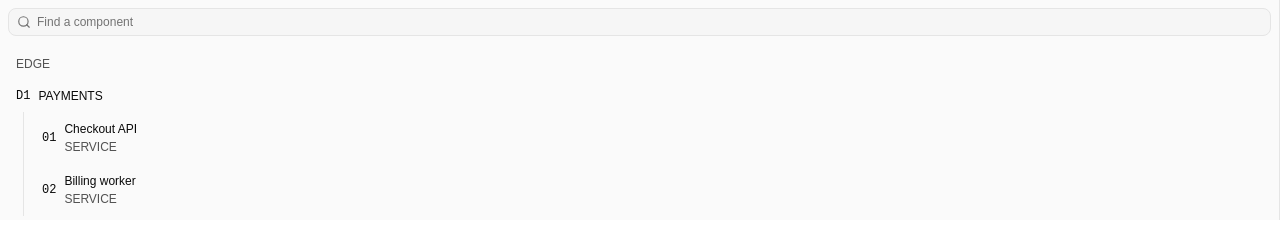
Test: Sidebar › given a term matching only a node's kind, when it is typed, then that row stays visible
The image size is (1280, 237).
Type "deployable" into the field labelled "Find a component" at point(650, 22), box [31, 8, 1270, 36]
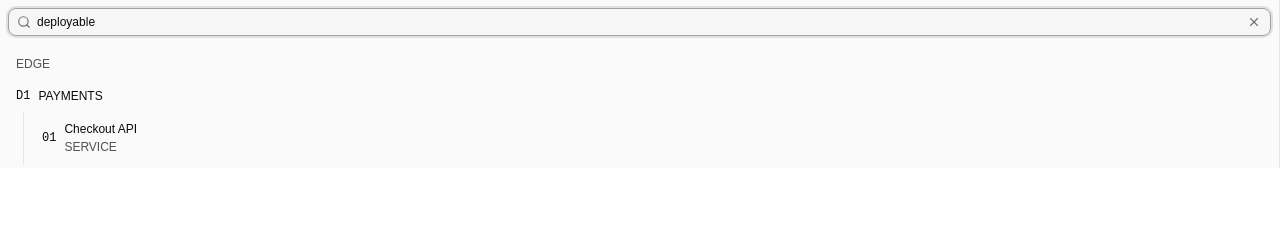
Expected: the text "Checkout API" is shown, [64, 121, 137, 137]
Expected: the button "Billing worker" is gone
